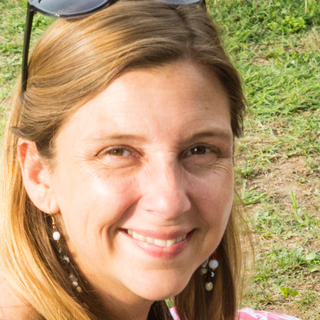eye: (177, 139, 223, 164), (95, 141, 144, 164)
